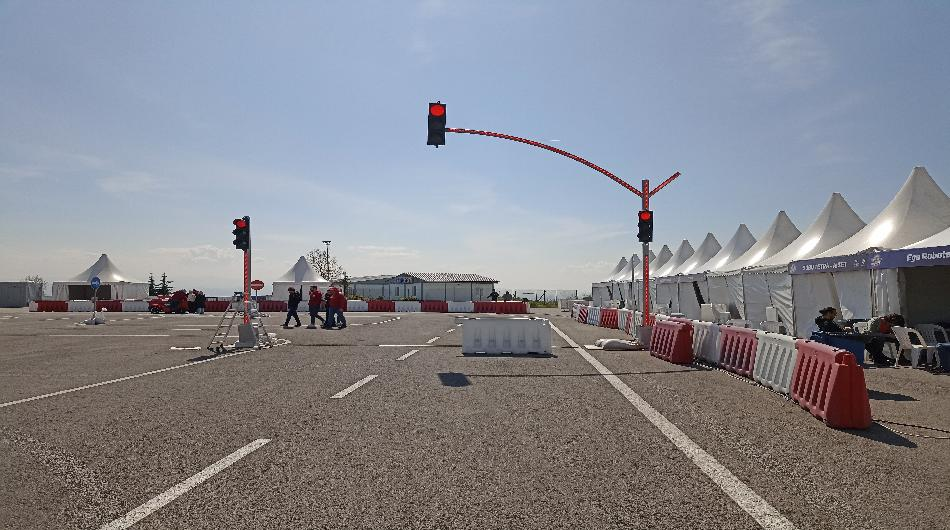red_light: (423, 100, 450, 148), (233, 215, 255, 254), (634, 210, 657, 243)
